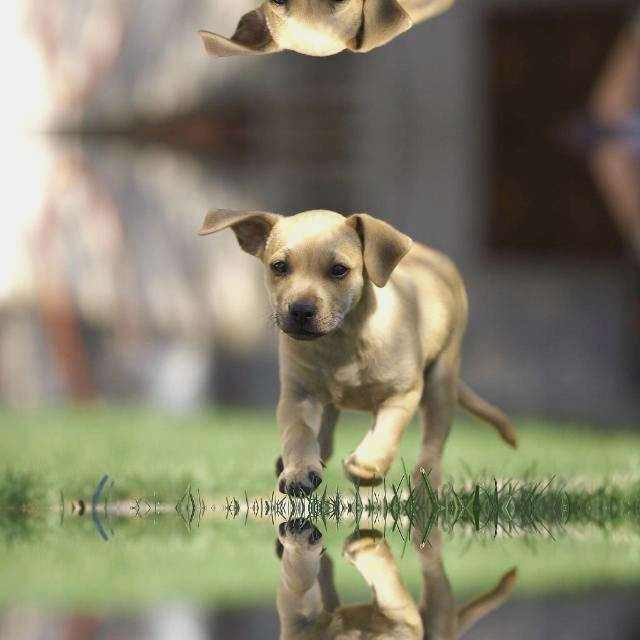dog: (194, 188, 527, 494), (193, 520, 526, 640), (193, 0, 526, 76)
